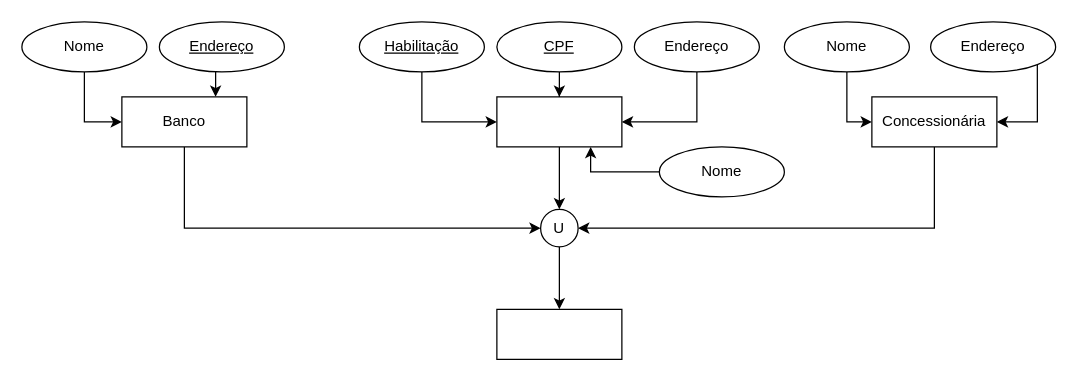
This 1078x381 diagram has some shape labels left out. The shapes that lost their labels are listed below. From the top down, each one's box as (x1, y1, x2, y2) in pixels, then its label:
(496, 96, 622, 147): Pessoa
(496, 308, 622, 359): Comprador
